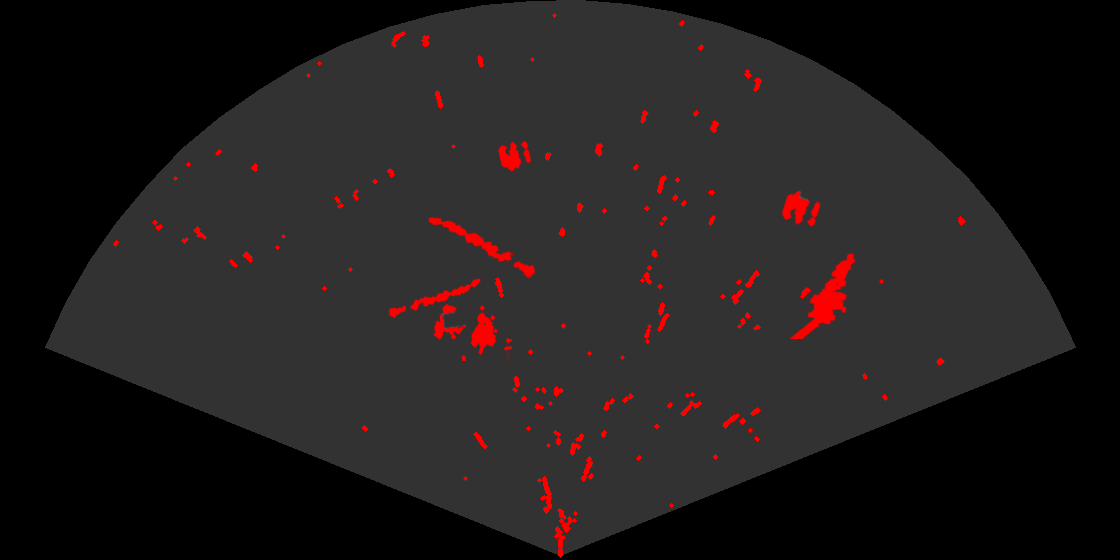ball: (780, 189, 822, 228), (497, 139, 533, 173)
cage: (432, 303, 512, 361)
chain: (426, 215, 537, 280), (387, 277, 482, 320)
frogman: (788, 251, 857, 339)
